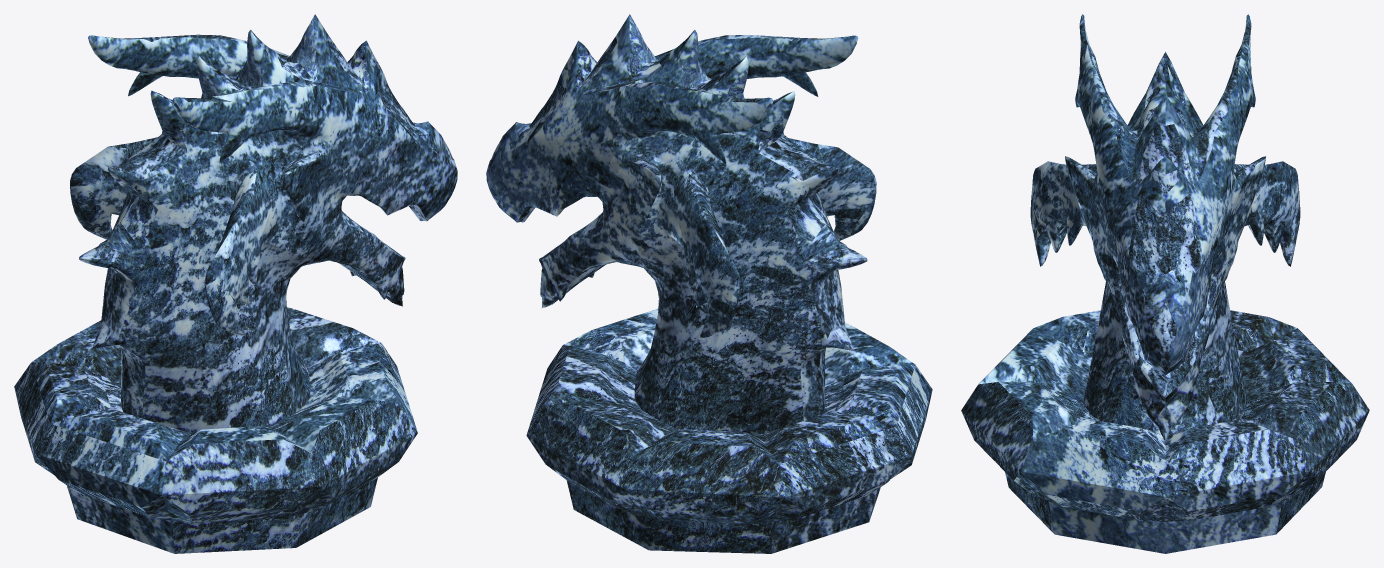
The model's file is King.FBX.
3 views of the same model, side by side, from view 1: azimuth 30°, elevation 25°; view 2: azimuth 150°, elevation 25°; view 3: azimuth 270°, elevation 25° (orthographic). The views are drawn at different scales.
Parts seen in each view (by area): view 1: King; view 2: King; view 3: King.
Part boxes in pixels (left/top/right/bottom): King: left=14, top=14, right=457, bottom=553; King: left=486, top=14, right=932, bottom=553; King: left=961, top=14, right=1369, bottom=553.
Bounding box in the file's own units: 2671 × 2775 × 2298.
1 material, 1 textured.
